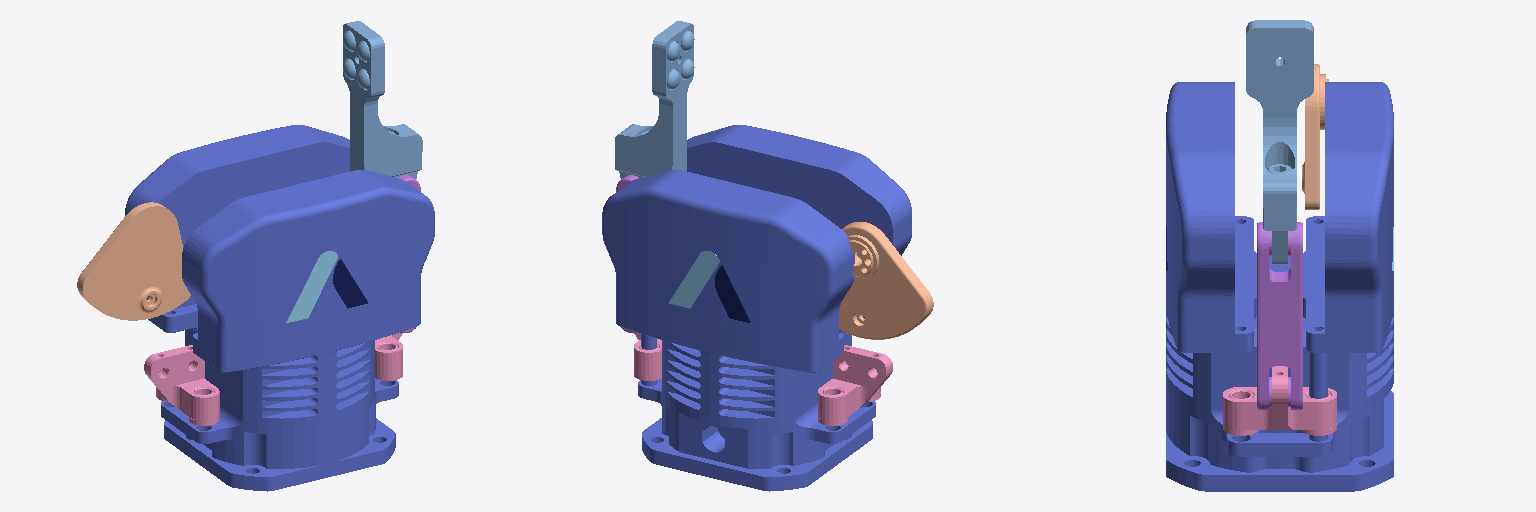
robot.urdf — susgrip_description:
<?xml version="1.0" encoding="utf-8"?>
<!--
    susgrip_2f_realistic.urdf - PyBullet compatible version
    Based on original susgrip_2f.urdf from susgrip_description package
    Mesh paths modified for direct file access
    author : [author] (original), modified for PyBullet
    date : 25Mar24
    Licensed under the BSD-3-Clause
    Copyright (c) 2025 Tesollo Inc.
    See LICENSE file for details.
-->

<robot name="susgrip_description">

  <material name="color_base">
    <color rgba="0.423529 0.494118 0.882353 1.0" />
  </material>
  <material name="color_finger">
    <color rgba="0.572549 0.72549 0.890196 1.0" />
  </material>
  <material name="color_pad">
    <color rgba="1.0 0.768627 0.643137 1.0" />
  </material>
  <material name="color_link">
    <color rgba="0.776471 0.533333 0.921569 1.0" />
  </material>
  <material name="color_slider">
    <color rgba="0.984314 0.635294 0.815686 1.0" />
  </material>
  <material name="color_A1">
    <color rgba="0.627450 0.866666 1 1" />
  </material>
  <material name="color_A2">
    <color rgba="0.129411 0.172549 0.407843 1" />
  </material>
  
<!-- *************************** base link ************************************* -->
  <link name="sus2f_base_link">
    <inertial>
      <origin xyz="0. 0. 0.06" rpy="-1.570796 0. 0." />
      <mass value="0.148118292371017" />
      <inertia
        ixx="0.000127380225676606"
        ixy="2.45032695761012E-06"
        ixz="-4.42797188296029E-07"
        iyy="0.000134249396452626"
        iyz="-1.25005318301663E-07"
        izz="0.000126530130055728" />
    </inertial>
    <visual>
      <origin xyz="0. 0. 0.06" rpy="-1.570796 0. 0." />
      <geometry>
        <mesh filename="susgrip/susgrip_description/meshes/susgrip_2f/SUS_2F_Base.STL" />
      </geometry>
      <material name="color_base" />
    </visual>
    <visual>
      <origin xyz="-0.041 0.0125 0.02" rpy="1.570796 0 3.141592" />
      <geometry>
        <mesh filename="susgrip/susgrip_description/meshes/susgrip_2f/SUS_2F_ShaftPhi_0.STL" />
      </geometry>
      <material name="color_base" />
    </visual>
    <visual>
      <origin xyz="-0.041 -0.0125 0.02" rpy="1.570796 0 3.141592" />
      <geometry>
        <mesh filename="susgrip/susgrip_description/meshes/susgrip_2f/SUS_2F_ShaftPhi_1.STL" />
      </geometry>
      <material name="color_base" />
    </visual>
    <visual>
      <origin xyz="0.041 0.0125 0.02" rpy="1.570796 0 3.141592" />
      <geometry>
        <mesh filename="susgrip/susgrip_description/meshes/susgrip_2f/SUS_2F_ShaftPhi_2.STL" />
      </geometry>
      <material name="color_base" />
    </visual>
    <visual>
      <origin xyz="0.041 -0.0125 0.02" rpy="1.570796 0 3.141592" />
      <geometry>
        <mesh filename="susgrip/susgrip_description/meshes/susgrip_2f/SUS_2F_ShaftPhi_3.STL" />
      </geometry>
      <material name="color_base" />
    </visual>
    <visual>
      <origin xyz="0.0184 0.027 0.07" rpy="0 3.141592 3.141592" />
      <geometry>
        <mesh filename="susgrip/susgrip_description/meshes/susgrip_2f/SUS_2F_A1.obj" />
      </geometry>
      <material name="color_A1" />
    </visual>
    <visual>
      <origin xyz="-0.0184 0.027 0.07" rpy="0 3.141592 3.141592" />
      <geometry>
        <mesh filename="susgrip/susgrip_description/meshes/susgrip_2f/SUS_2F_A2.obj" />
      </geometry>
      <material name="color_A2" />
    </visual>
    <visual>
      <origin xyz="-0.0184 -0.027 0.07" rpy="0 3.141592 0" />
      <geometry>
        <mesh filename="susgrip/susgrip_description/meshes/susgrip_2f/SUS_2F_A1.obj" />
      </geometry>
      <material name="color_A1" />
    </visual>
    <visual>
      <origin xyz="0.0184 -0.027 0.07" rpy="0 3.141592 0" />
      <geometry>
        <mesh filename="susgrip/susgrip_description/meshes/susgrip_2f/SUS_2F_A2.obj" />
      </geometry>
      <material name="color_A2" />
    </visual>
    <collision>
      <origin xyz="0. 0. 0.06" rpy="-1.570796 0. 0." />
      <geometry>
        <mesh filename="susgrip/susgrip_description/meshes/susgrip_2f/SUS_2F_Base.STL" />
      </geometry>
    </collision>
  </link>

<!-- *************************** slider l link ************************************* -->
  <link name="sus2f_slider_l_link">
    <inertial>
      <origin xyz="0. 0. 0." rpy="0. 0. 0." />
      <mass value="0.0050621" />
      <inertia
        ixx="5.5156E-07"
        ixy="1.1032E-07"
        ixz="-8.5308E-08"
        iyy="3.9645E-07"
        iyz="1.1084E-07"
        izz="4.9988E-07" />
    </inertial>
    <visual>
      <origin xyz="0. 0. 0." rpy="0. 0. 0." />
      <geometry>
        <mesh filename="susgrip/susgrip_description/meshes/susgrip_2f/SUS_2F_Slider_L.obj" />
      </geometry>
      <material name="color_slider" />
    </visual>
    <collision>
      <origin xyz="0. 0. 0." rpy="0. 0. 0." />
      <geometry>
        <mesh filename="susgrip/susgrip_description/meshes/susgrip_2f/SUS_2F_Slider_L.obj"/>
      </geometry>
    </collision>
  </link>
  
  <joint name="base_slider_l_joint" type="prismatic">
    <limit effort="100.0" lower="0.0" upper="0.015" velocity="0.5"/>
    <origin xyz="0. 0. 0." rpy="0. 0. 0." />
    <parent link="sus2f_base_link" />
    <child link="sus2f_slider_l_link" />
    <axis xyz="0 0 1" />
  </joint>

<!-- *************************** outer l link ************************************* -->
  <link name="sus2f_outer_l_link">
    <inertial>
      <origin xyz="0. 0. 0." rpy="0. 0. 0." />
      <mass value="0.0050621" />
      <inertia
        ixx="5.5156E-07"
        ixy="1.1032E-07"
        ixz="-8.5308E-08"
        iyy="3.9645E-07"
        iyz="1.1084E-07"
        izz="4.9988E-07" />
    </inertial>
    <visual>
      <origin xyz="0.053 0. -0.043" rpy="0. 0. 0." />
      <geometry>
        <mesh filename="susgrip/susgrip_description/meshes/susgrip_2f/SUS_2F_Outer_L.obj" />
      </geometry>
      <material name="color_link" />
    </visual>
    <collision>
      <origin xyz="0.053 0. -0.043" rpy="0. 0. 0." />
      <geometry>
        <mesh filename="susgrip/susgrip_description/meshes/susgrip_2f/SUS_2F_Outer_L.obj"/>
      </geometry>
    </collision>
  </link>
  
  <joint name="slider_outer_l_joint" type="continuous">
    <limit effort="100.0" lower="-1.5" upper="1.5" velocity="0.5"/>
    <origin xyz="-0.053 0. 0.043" rpy="0. 0. 0." />
    <parent link="sus2f_slider_l_link" />
    <child link="sus2f_outer_l_link" />
    <axis xyz="0 1 0" />
  </joint>

<!-- *************************** finger l link ************************************* -->
  <link name="sus2f_finger_l_link">
    <inertial>
      <origin xyz="0 0 0" rpy="0 0 0"/>
      <mass value="0.0050621" />
      <inertia
        ixx="5.5156E-07"
        ixy="1.1032E-07"
        ixz="-8.5308E-08"
        iyy="3.9645E-07"
        iyz="1.1084E-07"
        izz="4.9988E-07" />
    </inertial>
    <visual>
      <origin xyz="0.053 0 -0.097" rpy="0 0 0" />
      <geometry>
        <mesh filename="susgrip/susgrip_description/meshes/susgrip_2f/SUS_2F_Finger_L.obj" />
      </geometry>
      <material name="color_finger" />
    </visual>
    <collision>
      <origin xyz="0.053 0 -0.097" rpy="0 0 0" />
      <geometry>
        <mesh filename="susgrip/susgrip_description/meshes/susgrip_2f/SUS_2F_Finger_L.obj"/>
      </geometry>
    </collision>
  </link>
  
  <joint name="finger_outer_l_joint" type="continuous">
    <origin xyz="0.0 0. 0.054" rpy="0. 0. 0." />
    <parent link="sus2f_outer_l_link" />
    <child link="sus2f_finger_l_link" />
    <axis xyz="0 1 0" />
  </joint>

<!-- *************************** pad l link ************************************* -->
  <link name="sus2f_pad_l_link">
    <inertial>
      <origin xyz="0. 0. 0." rpy="0. 0. 0." />
      <mass value="0.0050621" />
      <inertia
        ixx="5.5156E-07"
        ixy="1.1032E-07"
        ixz="-8.5308E-08"
        iyy="3.9645E-07"
        iyz="1.1084E-07"
        izz="4.9988E-07" />
    </inertial>
    <visual>
      <origin xyz="0. 0.016 0.027" rpy="0. 0. -1.570796" />
      <geometry>
        <mesh filename="susgrip/susgrip_description/meshes/susgrip_2f/SUS_2F_Pad_L.obj" />
      </geometry>
      <material name="color_pad" />
    </visual>
    <collision>
      <origin xyz="0. 0.016 0.027" rpy="0. 0. -1.570796" />
      <geometry>
        <mesh filename="susgrip/susgrip_description/meshes/susgrip_2f/SUS_2F_Pad_L.obj"/>
      </geometry>
    </collision>
  </link>

  <joint name="pad_outer_l_joint" type="continuous">
    <limit effort="100.0" velocity="0.5"/>
    <origin xyz="0. 0. -0.027" rpy="0. 0. 0." />
    <parent link="sus2f_finger_l_link" />
    <child link="sus2f_pad_l_link" />
    <axis xyz="0 1 0" />
  </joint>

<!-- *************************** slider r link ************************************* -->
  <link name="sus2f_slider_r_link">
    <inertial>
      <origin xyz="0. 0. 0." rpy="0. 0. 0." />
      <mass value="0.0050621" />
      <inertia
        ixx="5.5156E-07"
        ixy="1.1032E-07"
        ixz="-8.5308E-08"
        iyy="3.9645E-07"
        iyz="1.1084E-07"
        izz="4.9988E-07" />
    </inertial>
    <visual>
      <origin xyz="0. 0. 0." rpy="0. 0. 0." />
      <geometry>
        <mesh filename="susgrip/susgrip_description/meshes/susgrip_2f/SUS_2F_Slider_R.obj" />
      </geometry>
      <material name="color_slider" />
    </visual>
    <collision>
      <origin xyz="0. 0. 0." rpy="0. 0. 0." />
      <geometry>
        <mesh filename="susgrip/susgrip_description/meshes/susgrip_2f/SUS_2F_Slider_R.obj"/>
      </geometry>
    </collision>
  </link>
  
  <joint name="base_slider_r_joint" type="prismatic">
    <limit effort="100.0" lower="0.0" upper="0.015" velocity="0.5"/>
    <origin xyz="0. 0. 0." rpy="0. 0. 0." />
    <parent link="sus2f_base_link" />
    <child link="sus2f_slider_r_link" />
    <axis xyz="0 0 1" />
  </joint>

<!-- *************************** outer r link ************************************* -->
  <link name="sus2f_outer_r_link">
    <inertial>
      <origin xyz="0. 0. 0." rpy="0. 0. 0." />
      <mass value="0.0050621" />
      <inertia
        ixx="5.5156E-07"
        ixy="1.1032E-07"
        ixz="-8.5308E-08"
        iyy="3.9645E-07"
        iyz="1.1084E-07"
        izz="4.9988E-07" />
    </inertial>
    <visual>
      <origin xyz="-0.053 0. -0.043" rpy="0. 0. 3.141593" />
      <geometry>
        <mesh filename="susgrip/susgrip_description/meshes/susgrip_2f/SUS_2F_Outer_R.obj" />
      </geometry>
      <material name="color_link" />
    </visual>
    <collision>
      <origin xyz="-0.053 0. -0.043" rpy="0. 0. 3.141592" />
      <geometry>
        <mesh filename="susgrip/susgrip_description/meshes/susgrip_2f/SUS_2F_Outer_R.obj"/>
      </geometry>
    </collision>
  </link>
  
  <joint name="slider_outer_r_joint" type="continuous">
    <limit effort="100.0" lower="-1.5" upper="1.5" velocity="0.5"/>
    <origin xyz="0.053 0. 0.043" rpy="0. 0. 0." />
    <parent link="sus2f_slider_r_link" />
    <child link="sus2f_outer_r_link" />
    <axis xyz="0 1 0" />
  </joint>

<!-- *************************** finger r link ************************************* -->
  <link name="sus2f_finger_r_link">
    <inertial>
      <origin xyz="0 0 0" rpy="0 0 0"/>
      <mass value="0.0050621" />
      <inertia
        ixx="5.5156E-07"
        ixy="1.1032E-07"
        ixz="-8.5308E-08"
        iyy="3.9645E-07"
        iyz="1.1084E-07"
        izz="4.9988E-07" />
    </inertial>
    <visual>
      <origin xyz="0.053 0 -0.097" rpy="0 0 0" />
      <geometry>
        <mesh filename="susgrip/susgrip_description/meshes/susgrip_2f/SUS_2F_Finger_R.obj" />
      </geometry>
      <material name="color_finger" />
    </visual>
    <collision>
      <origin xyz="0.053 0 -0.097" rpy="0 0 0" />
      <geometry>
        <mesh filename="susgrip/susgrip_description/meshes/susgrip_2f/SUS_2F_Finger_R.obj"/>
      </geometry>
    </collision>
  </link>
  
  <joint name="finger_outer_r_joint" type="continuous">
    <origin xyz="0.0 0. 0.054" rpy="0. 0. 3.141592" />
    <parent link="sus2f_outer_r_link" />
    <child link="sus2f_finger_r_link" />
    <axis xyz="0 1 0" />
  </joint>

<!-- *************************** pad r link ************************************* -->
  <link name="sus2f_pad_r_link">
    <inertial>
      <origin xyz="0. 0. 0." rpy="0. 0. 0." />
      <mass value="0.0050621" />
      <inertia
        ixx="5.5156E-07"
        ixy="1.1032E-07"
        ixz="-8.5308E-08"
        iyy="3.9645E-07"
        iyz="1.1084E-07"
        izz="4.9988E-07" />
    </inertial>
    <visual>
      <origin xyz="0. -0.016 0.027" rpy="0. 0. 1.570796" />
      <geometry>
        <mesh filename="susgrip/susgrip_description/meshes/susgrip_2f/SUS_2F_Pad_R.obj" />
      </geometry>
      <material name="color_pad" />
    </visual>
    <collision>
      <origin xyz="0. -0.016 0.027" rpy="0. 0. 1.570796" />
      <geometry>
        <mesh filename="susgrip/susgrip_description/meshes/susgrip_2f/SUS_2F_Pad_R.obj"/>
      </geometry>
    </collision>
  </link>

  <joint name="pad_outer_r_joint" type="continuous">
    <limit effort="100.0" velocity="0.5"/>
    <origin xyz="0. 0. -0.027" rpy="0. 0. 0." />
    <parent link="sus2f_finger_r_link" />
    <child link="sus2f_pad_r_link" />
    <axis xyz="0 1 0" />
  </joint>

</robot>

--- Render facts (derived) ---
Views: 3 orthographic renders of the robot side by side, from view 1: azimuth 30°, elevation 25°; view 2: azimuth 150°, elevation 25°; view 3: azimuth 270°, elevation 25°.
Robot: susgrip_description — 9 links, 8 joints (6 continuous, 2 prismatic); root link sus2f_base_link; default pose: every joint at zero.
Links seen in each view (by area): view 1: sus2f_base_link, sus2f_pad_l_link, sus2f_finger_r_link, sus2f_slider_l_link, sus2f_slider_r_link; view 2: sus2f_base_link, sus2f_pad_l_link, sus2f_finger_r_link, sus2f_slider_l_link, sus2f_slider_r_link; view 3: sus2f_base_link, sus2f_finger_r_link, sus2f_outer_r_link, sus2f_slider_r_link, sus2f_pad_l_link.
Boxes of the visible links, left/top/right/bottom form: sus2f_base_link: left=125, top=125, right=434, bottom=491; sus2f_pad_l_link: left=77, top=202, right=190, bottom=320; sus2f_finger_r_link: left=343, top=21, right=422, bottom=178; sus2f_slider_l_link: left=144, top=345, right=219, bottom=425; sus2f_slider_r_link: left=375, top=332, right=402, bottom=380; sus2f_base_link: left=602, top=125, right=911, bottom=491; sus2f_pad_l_link: left=839, top=222, right=933, bottom=339; sus2f_finger_r_link: left=615, top=21, right=694, bottom=178; sus2f_slider_l_link: left=818, top=345, right=892, bottom=425; sus2f_slider_r_link: left=634, top=332, right=661, bottom=380; sus2f_base_link: left=1166, top=82, right=1393, bottom=491; sus2f_finger_r_link: left=1246, top=20, right=1313, bottom=264; sus2f_outer_r_link: left=1257, top=222, right=1302, bottom=409; sus2f_slider_r_link: left=1223, top=366, right=1336, bottom=435; sus2f_pad_l_link: left=1302, top=64, right=1328, bottom=209.
Size in the robot's own frame: 0.1438 by 0.074 by 0.167 metres.
Meshes: 15 distinct files referenced, 11 mesh visuals loaded (2 binary STL, 7 OBJ); not drawn: 6 (reference not matched to a file when rendering).